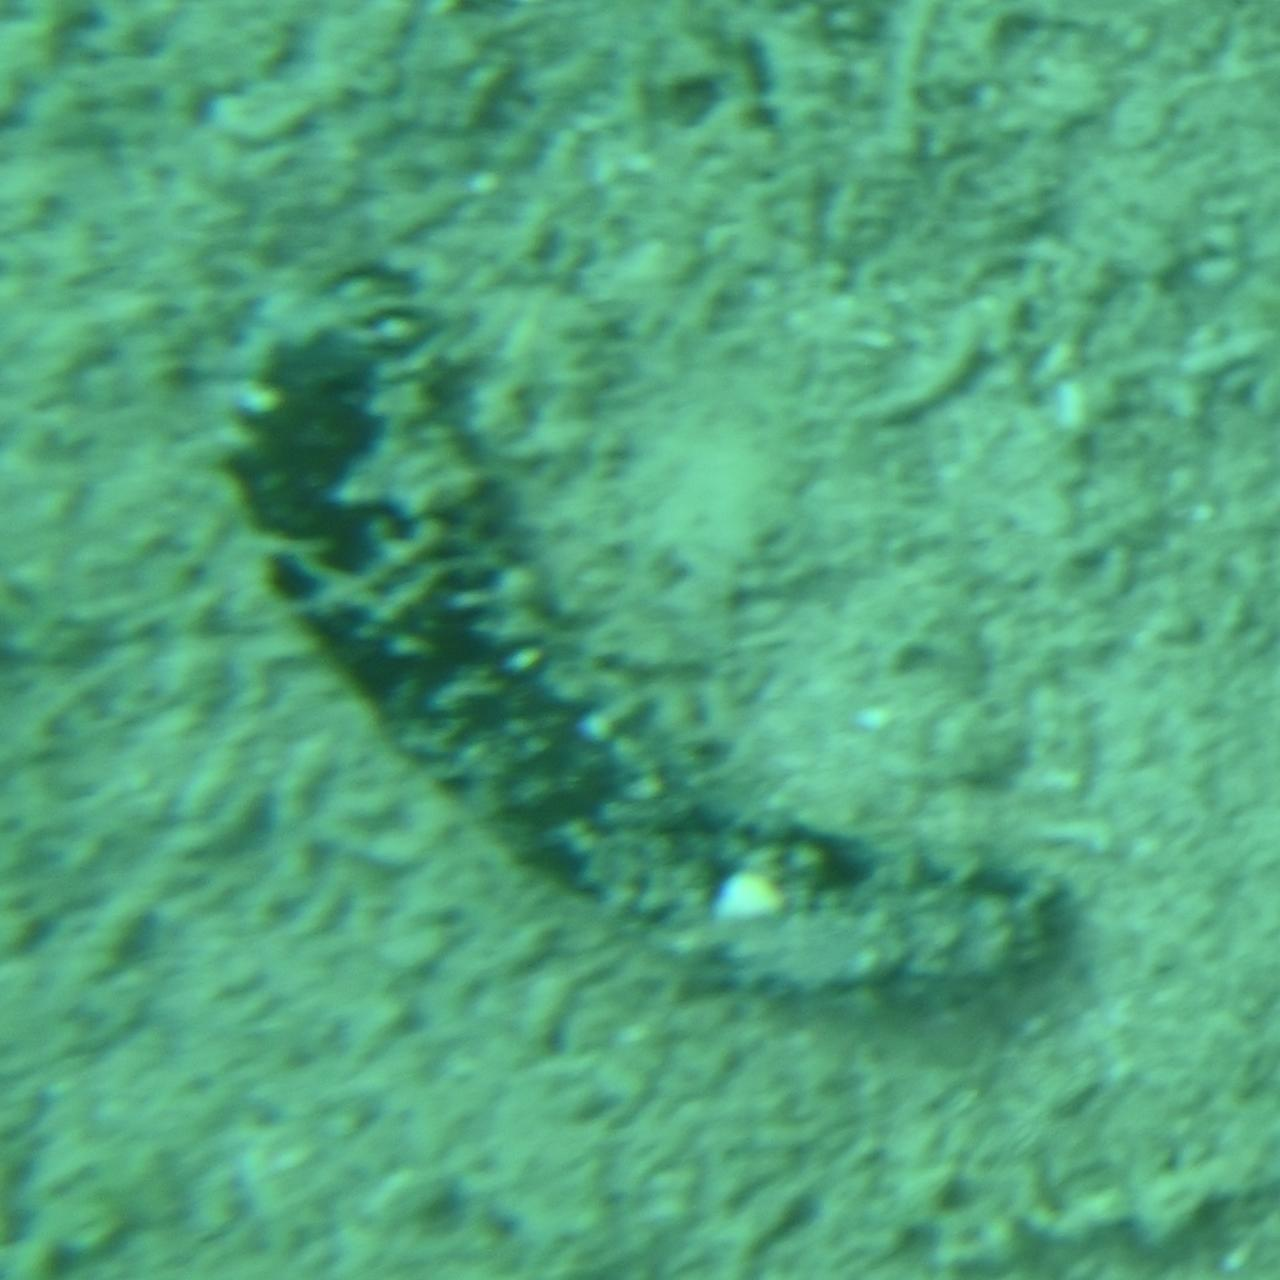Holothuria tubulosa: (203, 271, 1077, 1009)
